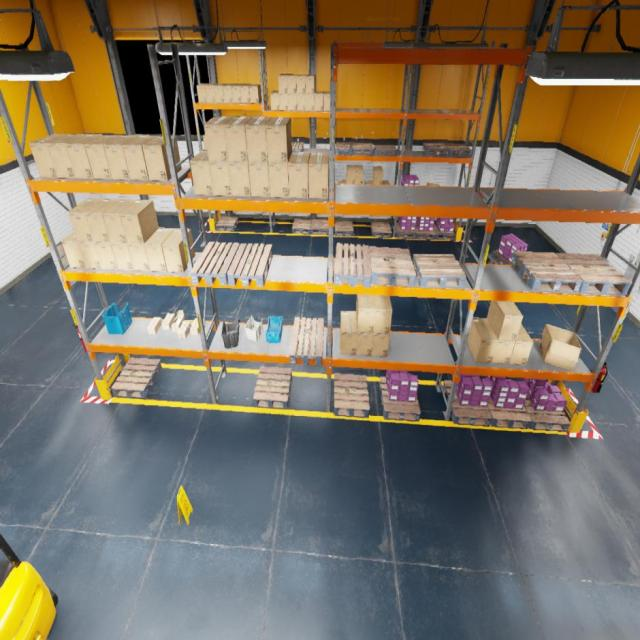box: (540, 323, 582, 371), (28, 134, 70, 178), (142, 136, 182, 181), (47, 134, 87, 179), (66, 135, 106, 178), (84, 134, 122, 179), (120, 199, 158, 244), (104, 135, 140, 180), (85, 199, 121, 242), (68, 198, 104, 241), (123, 136, 158, 180), (162, 228, 195, 272), (487, 301, 523, 341), (103, 199, 136, 242), (467, 318, 498, 363), (204, 116, 234, 162), (144, 227, 174, 272), (487, 319, 515, 364), (225, 116, 252, 162), (266, 117, 292, 163), (245, 117, 271, 163), (268, 153, 292, 198), (190, 150, 213, 196), (288, 152, 310, 198), (509, 323, 533, 365), (308, 152, 329, 199), (61, 231, 86, 268), (340, 310, 358, 355), (248, 162, 270, 197), (209, 162, 232, 195), (229, 162, 251, 196), (356, 295, 375, 333), (374, 294, 392, 334), (110, 242, 134, 270), (94, 242, 118, 269), (77, 242, 101, 269), (128, 244, 150, 271), (357, 332, 374, 356), (373, 334, 390, 356), (172, 310, 184, 332), (249, 85, 262, 104), (205, 84, 218, 103), (197, 84, 210, 103), (147, 317, 161, 334), (161, 313, 175, 330), (240, 85, 252, 104), (223, 84, 235, 103), (214, 84, 226, 103), (177, 322, 191, 338), (232, 84, 243, 103), (314, 91, 324, 111), (373, 166, 383, 185), (354, 165, 364, 184), (296, 74, 306, 93), (288, 74, 298, 93), (278, 74, 288, 93), (306, 74, 315, 93), (270, 91, 279, 110), (190, 318, 199, 335), (346, 165, 354, 184), (288, 94, 297, 110), (279, 94, 288, 110), (324, 91, 331, 111), (297, 94, 305, 110), (306, 94, 314, 110), (203, 134, 208, 149), (426, 182, 439, 186), (364, 180, 373, 184), (338, 179, 346, 183), (383, 180, 390, 184), (209, 117, 213, 121), (373, 180, 373, 184)
forklift: (0, 533, 58, 639)
pallets: (556, 253, 632, 295), (511, 251, 582, 293), (443, 381, 492, 426), (190, 242, 240, 285), (112, 358, 162, 398), (227, 243, 272, 287), (379, 376, 421, 422), (369, 246, 416, 286), (412, 255, 467, 287), (290, 317, 324, 366), (524, 396, 570, 432), (253, 366, 292, 408), (334, 243, 371, 287), (334, 373, 370, 418), (488, 398, 532, 428), (414, 223, 436, 240), (433, 224, 456, 240), (422, 143, 449, 156), (371, 222, 392, 238), (216, 216, 238, 231), (444, 144, 471, 156), (293, 218, 312, 234), (396, 223, 416, 238), (311, 219, 329, 235), (492, 250, 511, 265), (334, 222, 354, 236), (374, 144, 397, 156), (352, 143, 373, 155), (336, 142, 352, 156), (291, 142, 304, 152), (328, 194, 329, 202)
